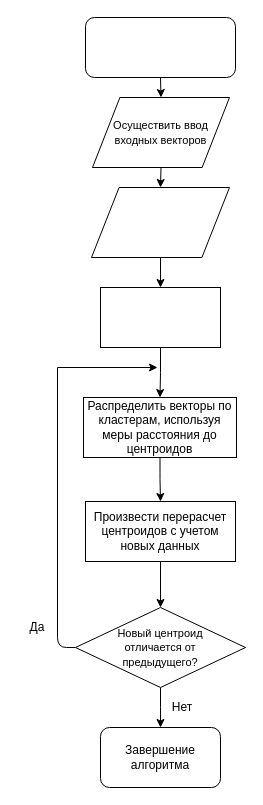
This 263x805 diagram has some shape labels left out. Here are the shapes that lost their labels. From the top down, the centre of each, then its label:
the point at 160,47: Инициализация алгоритма
the point at 160,222: Определить количество необходимых кластеров
the point at 160,317: Определить первоначальные центроиды для каждого кластера
